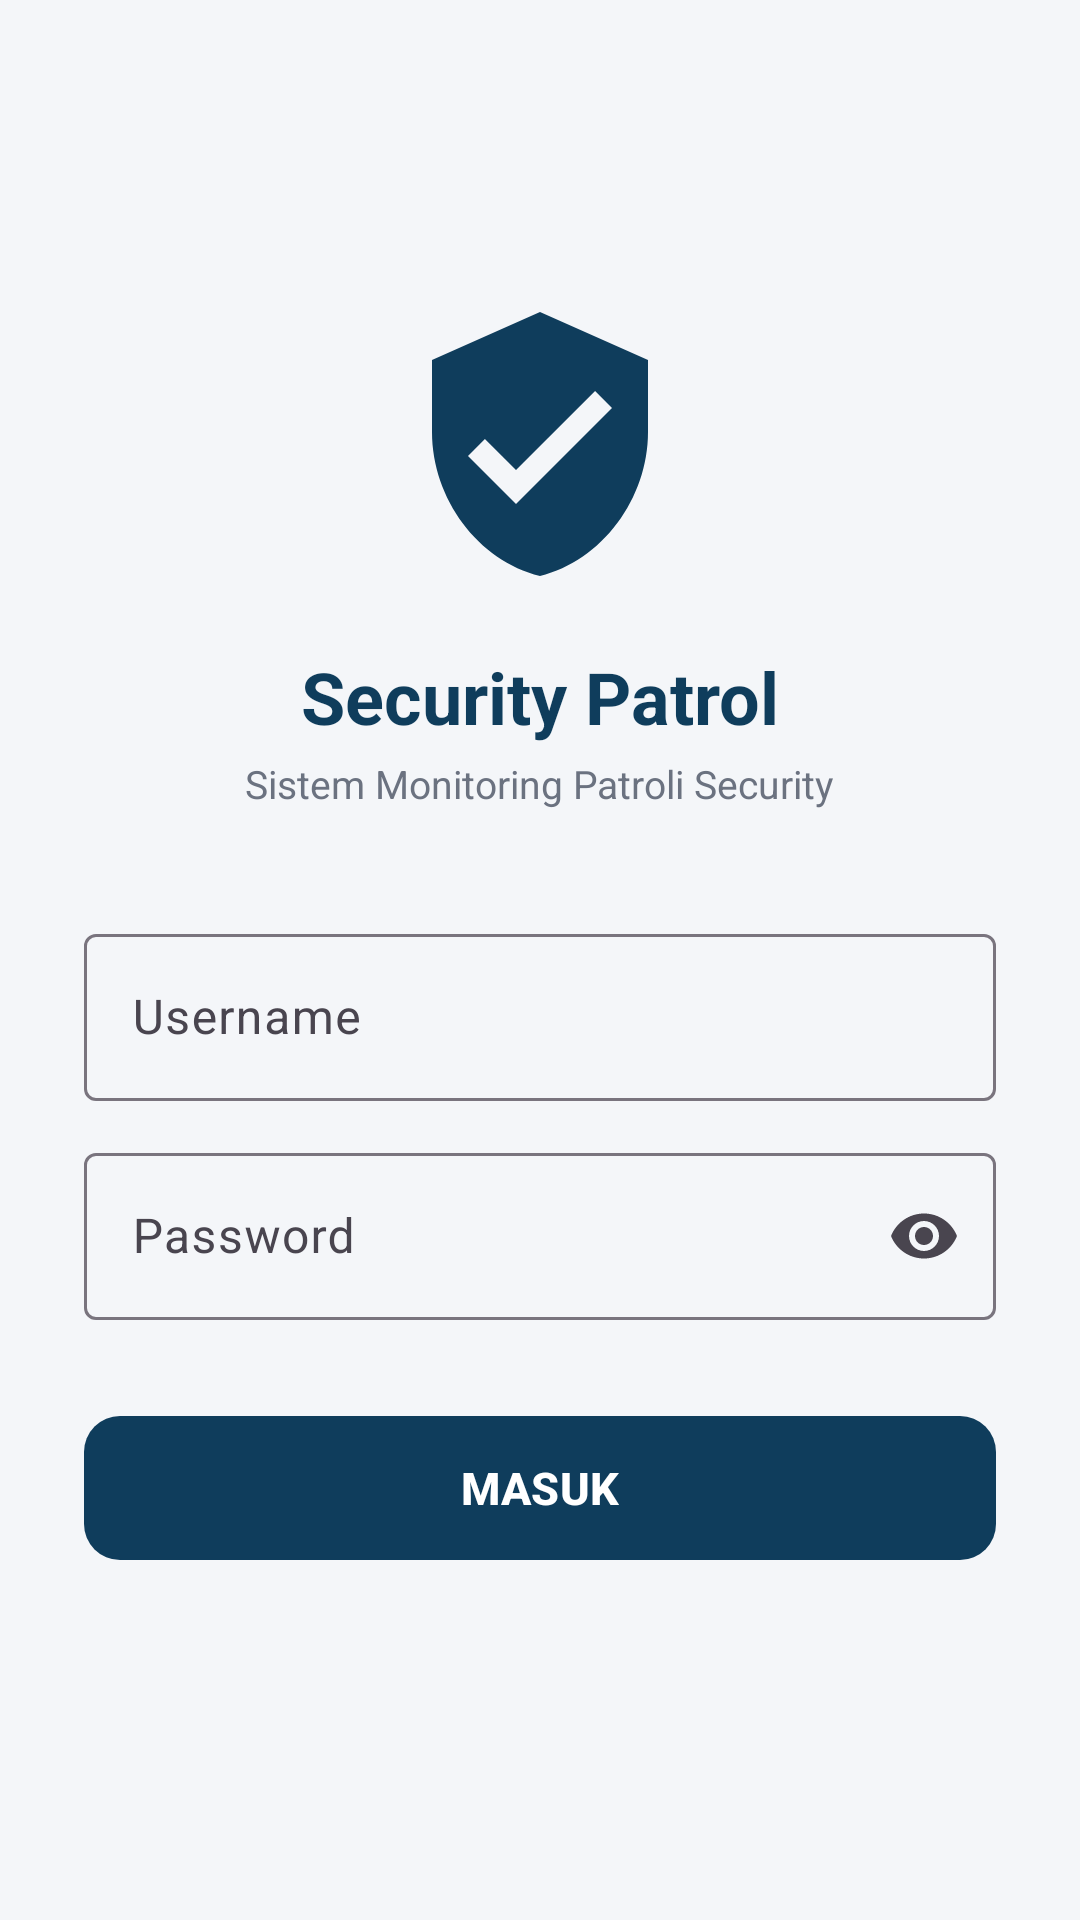

Icons on this 1080×1920 Android screen, each with its box as box(x1, y1, x2, y2):
shield: box(432, 312, 648, 576)
